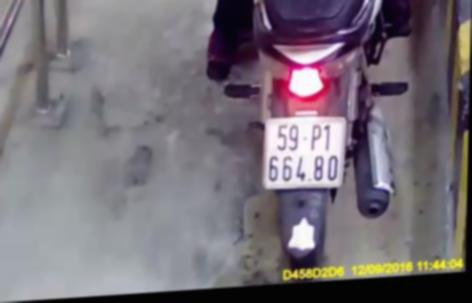License_Plate: (258, 108, 353, 196)
